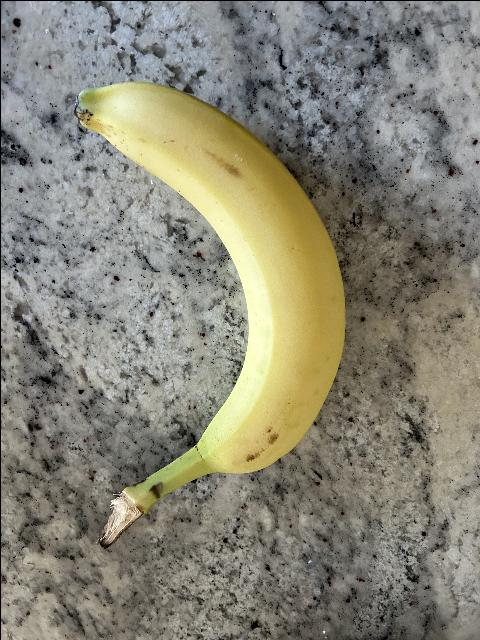Bananas: (74, 84, 346, 544)
